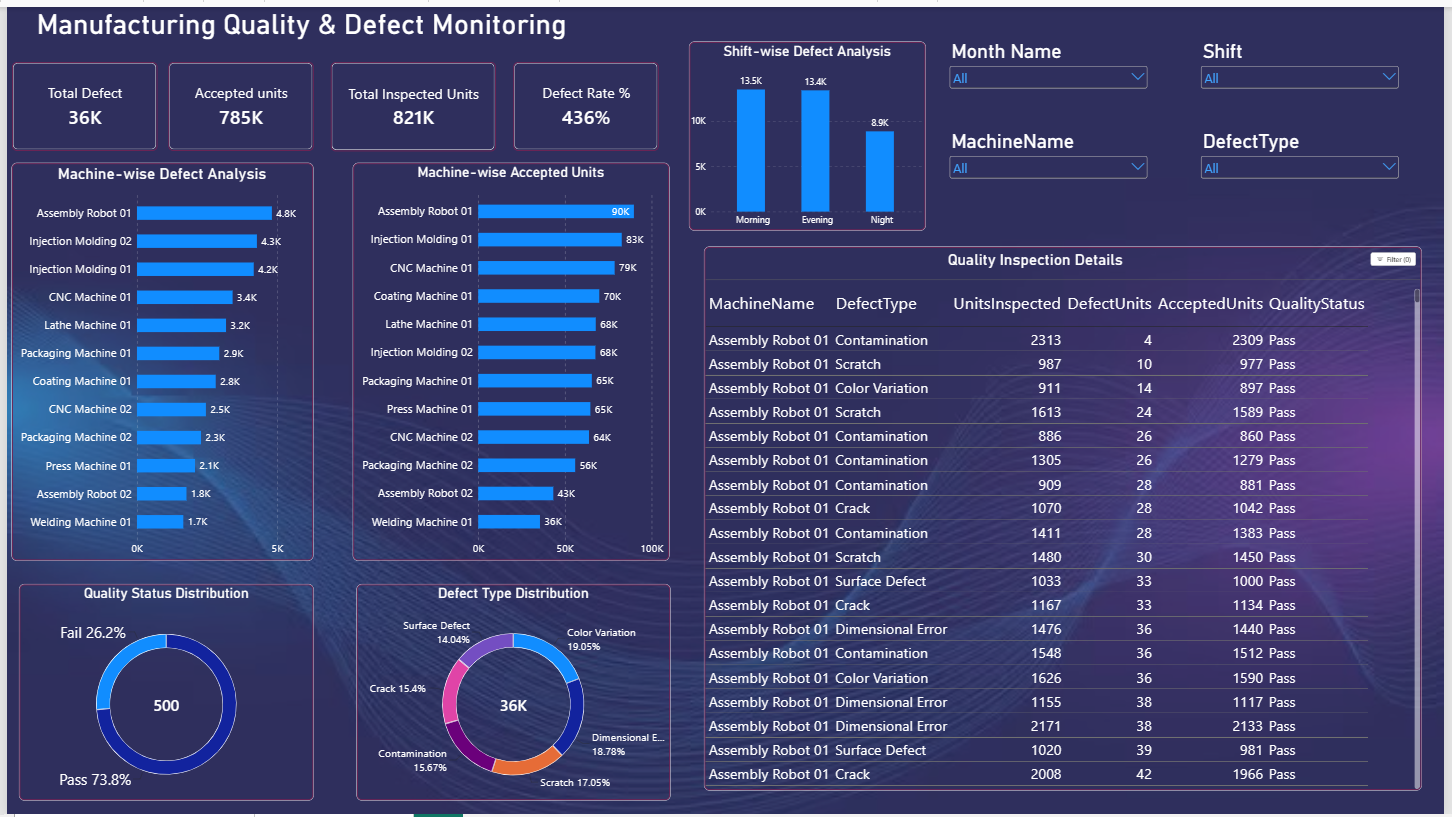

What the dashboard file says about the page in this screenshot:
{"tool":"powerbi","page":{"name":"quality analysisi","canvas":[2560,1440],"ordinal":1},"visuals":[{"type":"textbox","title":"Manufacturing Quality & Defect Monitoring","box":[14.5,0,1018.2,98.9],"z":0},{"type":"cardVisual","fields":{"Data":["Table.Total Defect"]},"box":[9.7,98.9,259.3,158.5],"z":1},{"type":"cardVisual","fields":{"Data":["Table.Accepted units"]},"box":[287.1,98.9,259.3,158.5],"z":2},{"type":"cardVisual","fields":{"Data":["Table.Total Inspected Units"]},"box":[576.7,98.9,294.4,159.3],"z":3},{"type":"cardVisual","fields":{"Data":["Table.Defect Rate %"]},"box":[902.4,98.9,259.3,158.5],"z":4},{"type":"donutChart","title":"Defect Type Distribution","fields":{"Category":["quality.DefectType"],"Y":["Sum(quality.DefectUnits)"]},"box":[622.5,1027.9,557.4,383.6],"z":5},{"type":"barChart","title":"Machine-wise Defect Analysis","fields":{"Category":["machines.MachineName"],"Y":["Sum(quality.DefectUnits)"]},"box":[9.7,277.5,535.7,707],"z":6},{"type":"columnChart","title":"Shift-wise Defect Analysis","fields":{"Category":["production.Shift"],"Y":["Sum(quality.DefectUnits)"]},"box":[1216.1,62.7,419.9,335.5],"z":7},{"type":"donutChart","title":"Quality Status Distribution","fields":{"Category":["quality.QualityStatus"],"Y":["CountNonNull(quality.QualityID)"]},"box":[21.7,1027.9,523.6,383.6],"z":8},{"type":"barChart","title":"Machine-wise Accepted Units","fields":{"Category":["machines.MachineName"],"Y":["Sum(quality.AcceptedUnits)"]},"box":[617.7,277.5,562.2,707],"z":9},{"type":"tableEx","title":"Quality Inspection Details","fields":{"Values":["machines.MachineName","quality.DefectType","quality.UnitsInspected","quality.DefectUnits","quality.AcceptedUnits","quality.QualityStatus"]},"box":[1242.6,427.1,1276.4,967.6],"z":10},{"type":"slicer","fields":{"Values":["quality.Month Name"]},"box":[1674.5,57.9,361.9,120.6],"z":12},{"type":"slicer","fields":{"Values":["machines.MachineName"]},"box":[1674.5,217.2,361.9,120.6],"z":13},{"type":"slicer","fields":{"Values":["production.Shift"]},"box":[2120.9,57.9,361.9,120.6],"z":14},{"type":"slicer","fields":{"Values":["quality.DefectType"]},"box":[2120.9,217.2,361.9,120.6],"z":15}]}

Visuals, with their boxes in screenshot pixels (x1, y1, x2, y2), scaled from the page's 2560x1440 canvas onto the 1452x817 screenshot:
"Manufacturing Quality & Defect Monitoring" textbox: 8,0,586,56
cardVisual - Table.Total Defect: 6,56,153,146
cardVisual - Table.Accepted units: 163,56,310,146
cardVisual - Table.Total Inspected Units: 327,56,494,146
cardVisual - Table.Defect Rate %: 512,56,659,146
"Defect Type Distribution" donutChart: 353,583,669,801
"Machine-wise Defect Analysis" barChart: 6,157,309,559
"Shift-wise Defect Analysis" columnChart: 690,36,928,226
"Quality Status Distribution" donutChart: 12,583,309,801
"Machine-wise Accepted Units" barChart: 350,157,669,559
"Quality Inspection Details" tableEx: 705,242,1429,791
slicer - quality.Month Name: 950,33,1155,101
slicer - machines.MachineName: 950,123,1155,192
slicer - production.Shift: 1203,33,1408,101
slicer - quality.DefectType: 1203,123,1408,192
